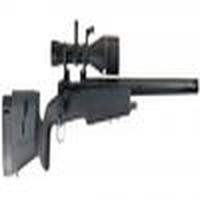gun: (10, 74, 199, 168)
